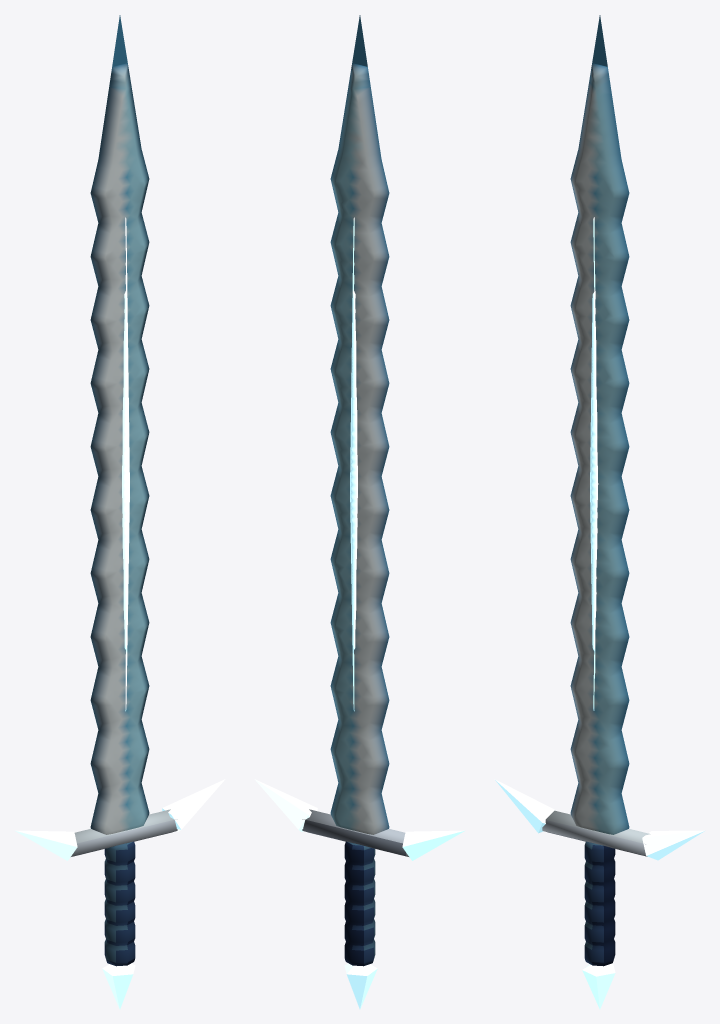
The model's file is w_frost_brand.glb.
The picture shows the model from 3 angles, left to right: view 1: azimuth 30°, elevation 25°; view 2: azimuth 150°, elevation 25°; view 3: azimuth 330°, elevation 25°; orthographic projection.
Visible parts, largest first — view 1: Weapon; view 2: Weapon; view 3: Weapon.
Part boxes in pixels (left/top/right/bottom): Weapon: left=15, top=15, right=225, bottom=1009; Weapon: left=254, top=15, right=464, bottom=1009; Weapon: left=494, top=15, right=704, bottom=1009.
Bounding box in the file's own units: 0.2448 × 1.1 × 0.0342.
